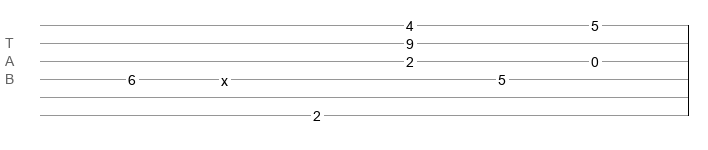0: (591, 54, 599, 64)
2: (313, 108, 321, 118), (406, 54, 414, 64)
4: (406, 18, 414, 28)
5: (498, 72, 506, 82), (591, 18, 599, 28)
6: (128, 72, 136, 82)
9: (406, 36, 414, 46)
x: (221, 73, 228, 81)
